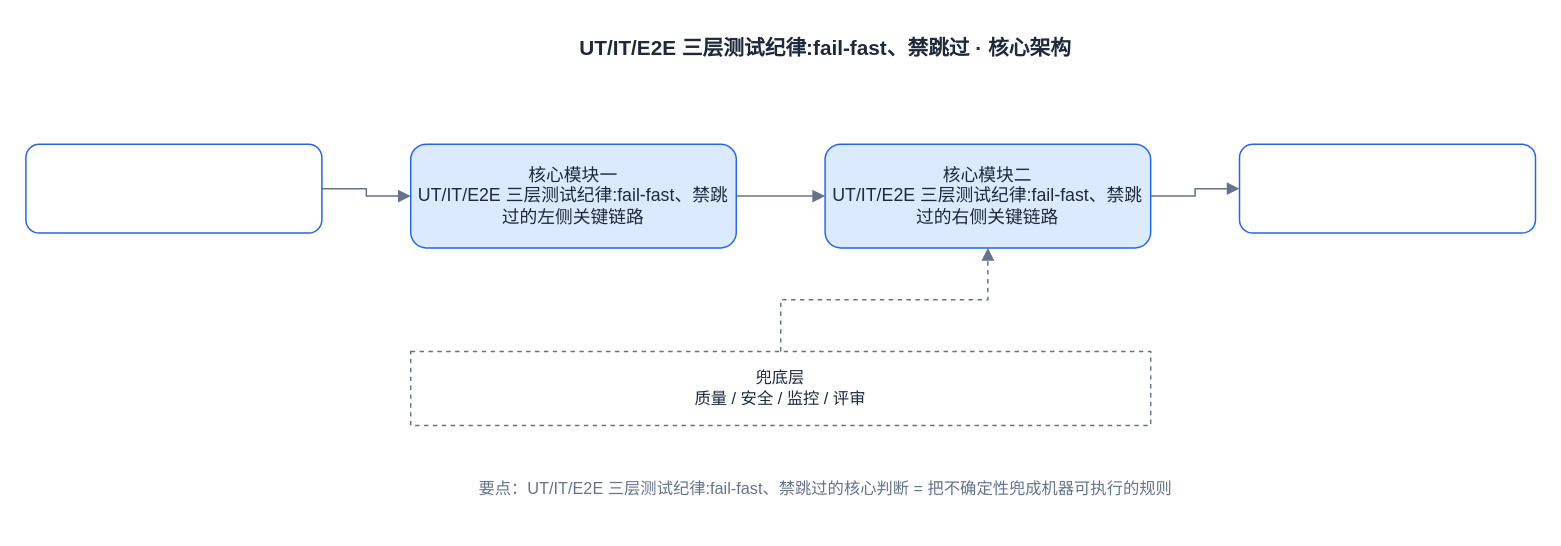
The diagram is 1561 pixels wide and 546 high, and some of its shapes have lost their labels. The shapes that lost their labels are listed below. From the top down, each one's box as (x1, y1, x2, y2) in pixels, then its label:
(24, 143, 322, 233): 输入层 需求 / 数据 / 上游调用
(1238, 143, 1536, 233): 输出 / 结果 产物 / 上线 / 反馈
